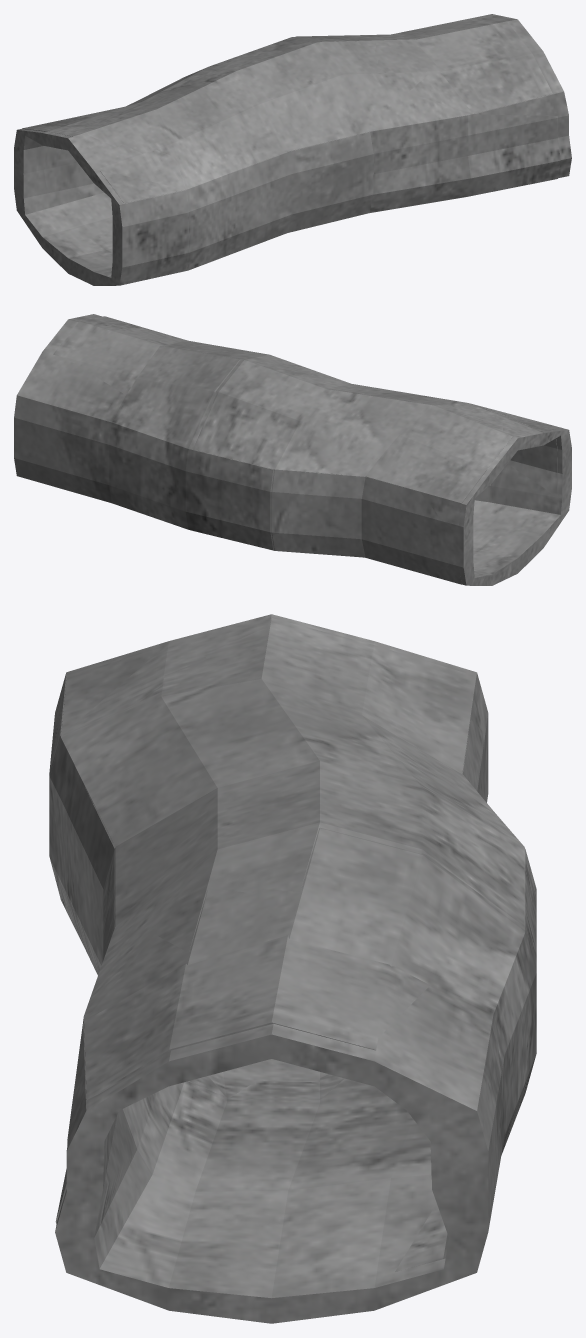
The model's file is Test_Tunnel.fbx.
The picture shows the model from 3 angles, top to bottom: view 1: azimuth 30°, elevation 25°; view 2: azimuth 150°, elevation 25°; view 3: azimuth 270°, elevation 25°; orthographic projection. The views are drawn at different scales.
Visible parts, largest first — view 1: polySurface295, polySurface296; view 2: polySurface296, polySurface295; view 3: polySurface296, polySurface295.
Part boxes in pixels (<box>): polySurface295: <box>22,16,560,270</box>; polySurface296: <box>14,14,571,285</box>; polySurface296: <box>14,314,571,585</box>; polySurface295: <box>53,316,563,584</box>; polySurface296: <box>49,614,536,1323</box>; polySurface295: <box>50,618,524,1271</box>.
Size of the model in its own units: 13692 by 4636 by 6428.
